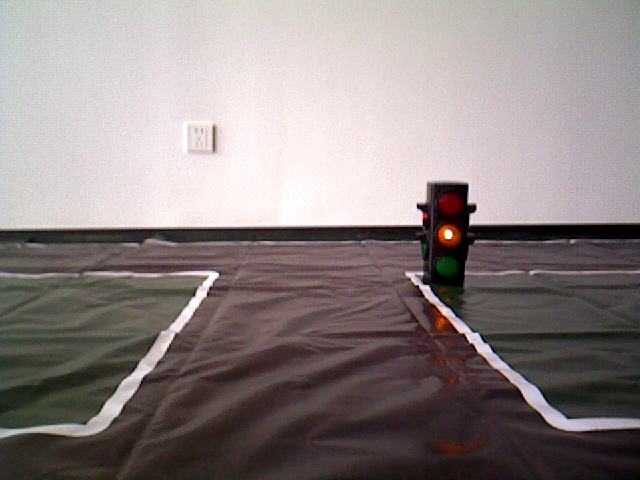yellow: (424, 180, 470, 279)
